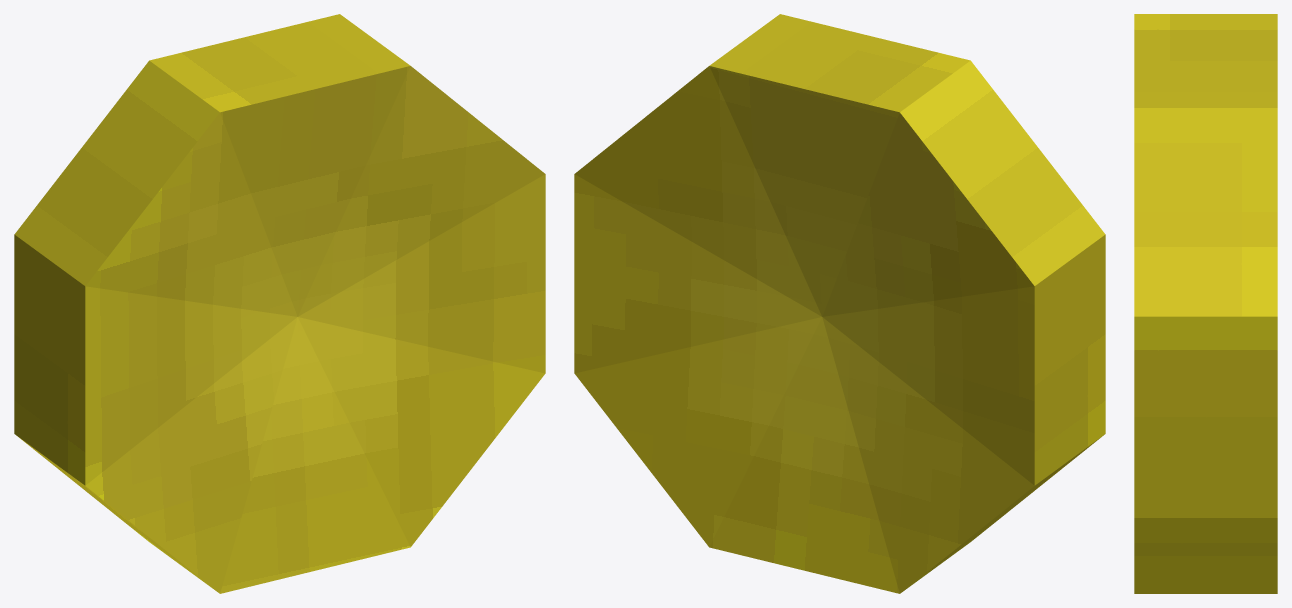
Rendered from piece.fbx.
The picture shows the model from 3 angles, left to right: view 1: azimuth 30°, elevation 25°; view 2: azimuth 150°, elevation 25°; view 3: azimuth 270°, elevation 25°; orthographic projection.
Visible parts, largest first — view 1: cylinder; view 2: cylinder; view 3: cylinder.
Part boxes in pixels (x1,y1,x2,y2): cylinder: (14, 14, 545, 593); cylinder: (574, 14, 1105, 593); cylinder: (1134, 14, 1277, 593).
Size of the model in its own units: 93.75 by 93.75 by 25.
Materials: 1 (1 with a texture image).
